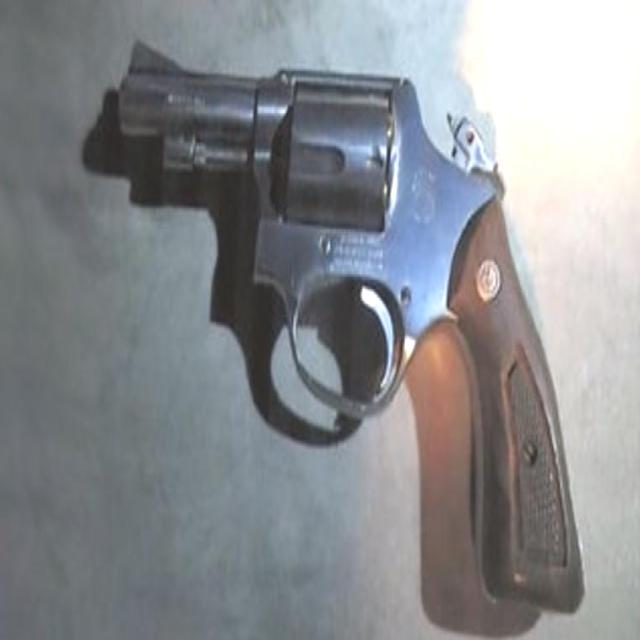pistol: (114, 30, 590, 605)
